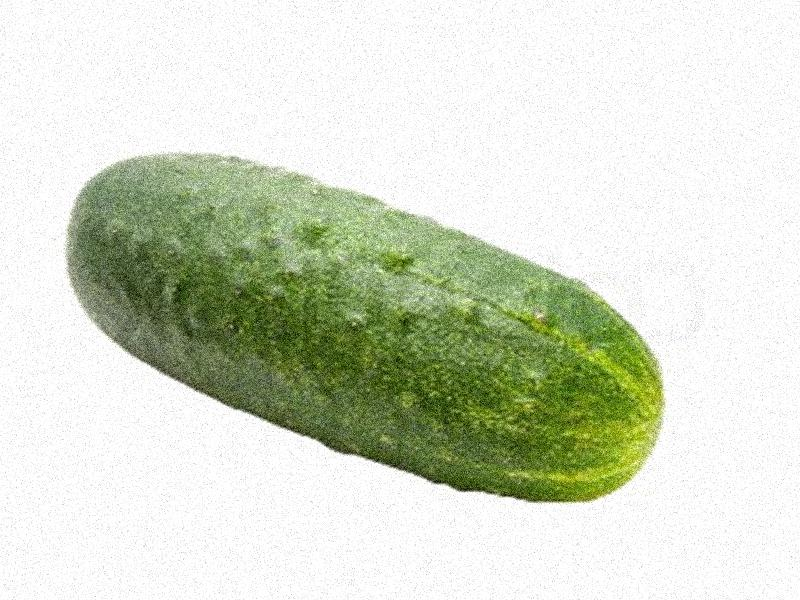Cucumber: (66, 151, 665, 497)
